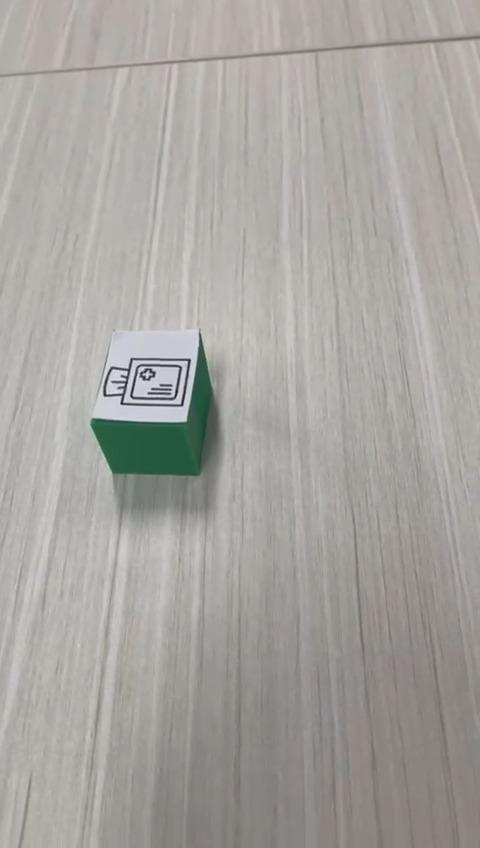Gauze: (89, 327, 213, 477)
